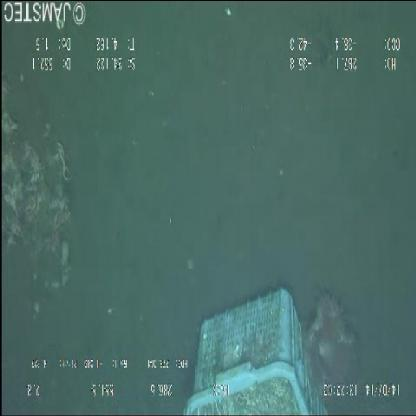Rác: (172, 258, 332, 414)
